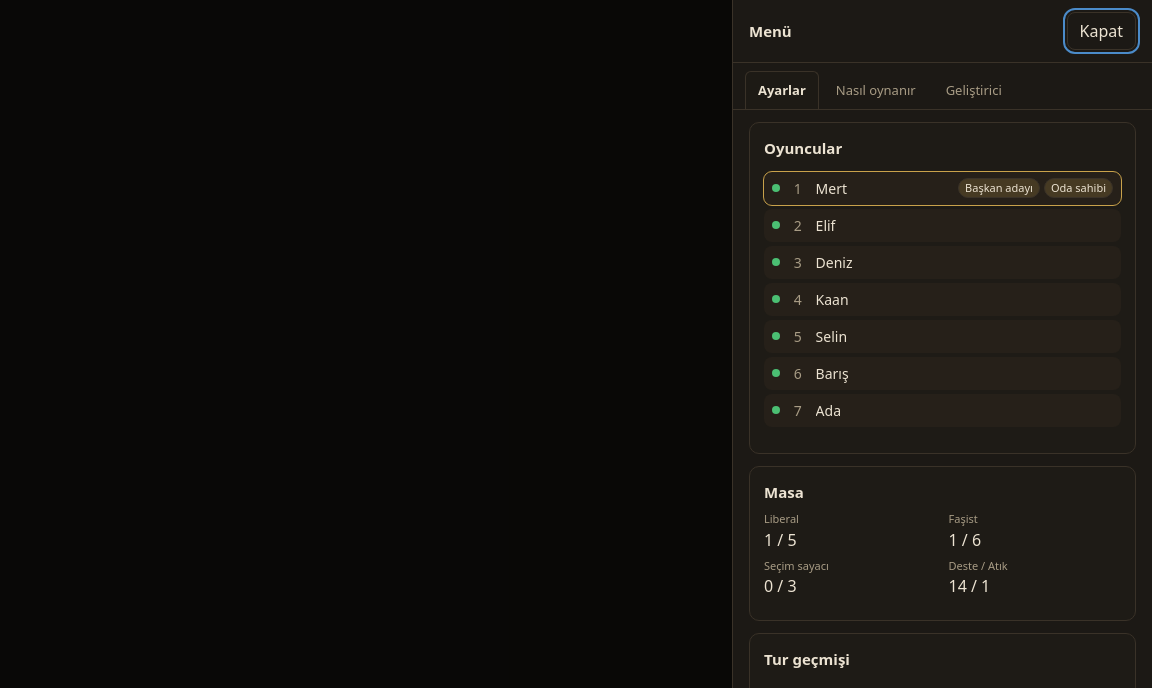
GameMenu — Geliştirici bölümü (DEV) › DEV derlemesinde sekme, başlık ve tüm senaryo düğmeleri görünür
The image size is (1152, 688).
Click the tab "Geliştirici" at (974, 90), box [933,71,1015,109]
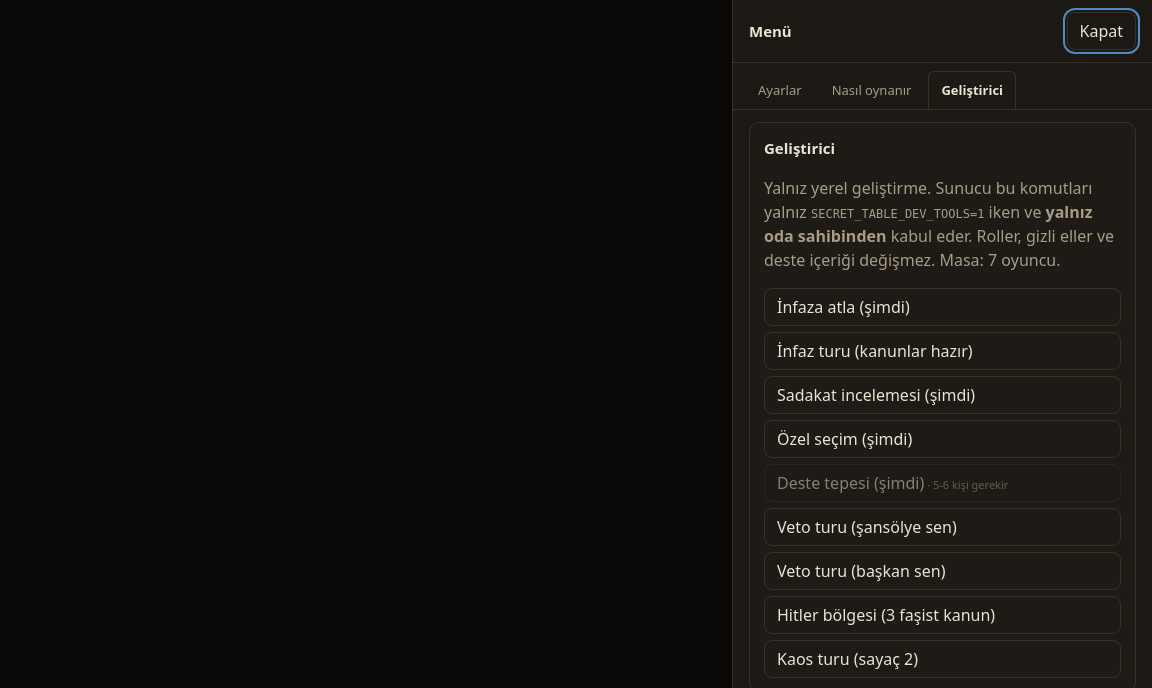
Now the heading "Geliştirici" is shown, box [764,138,835,158]
